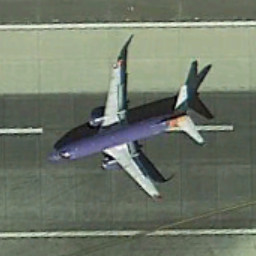Airplane: (43, 42, 216, 225)
